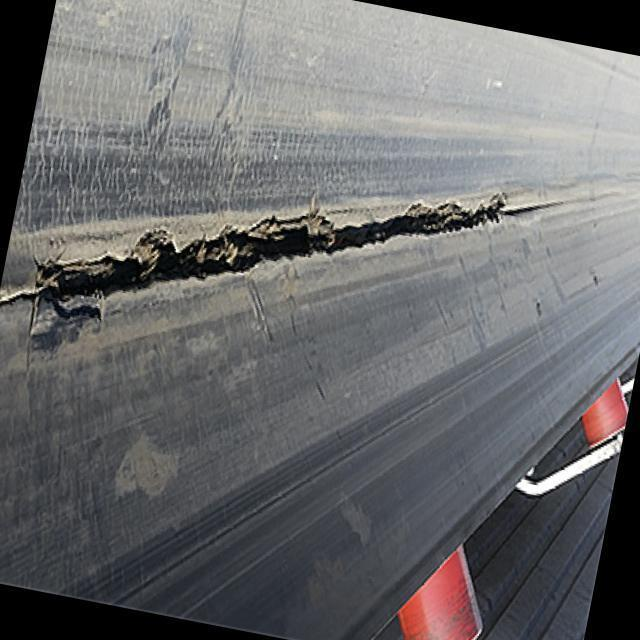Tear: (0, 190, 556, 345)
